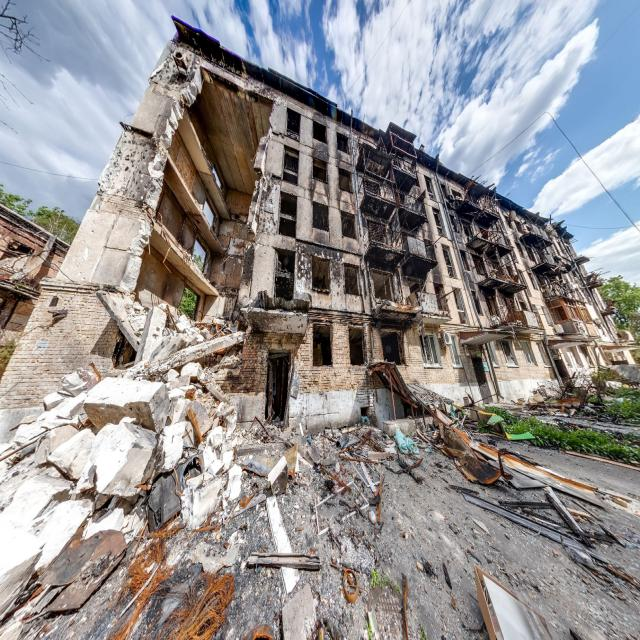broken_window: (273, 248, 295, 301), (312, 321, 332, 367), (278, 191, 297, 238), (311, 254, 330, 294), (348, 326, 365, 366), (282, 146, 299, 185)
building: (1, 14, 638, 438)
